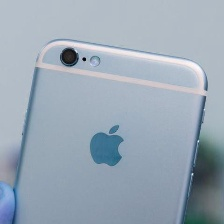phone: (0, 32, 214, 223)
